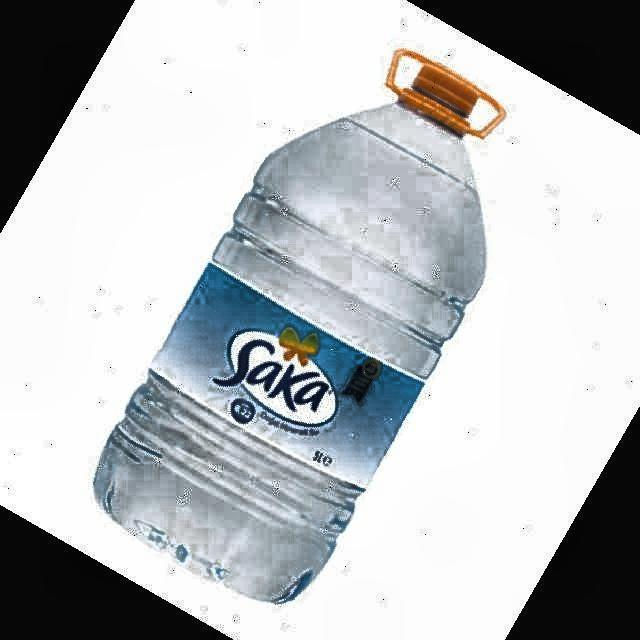plastic: (95, 50, 504, 602)
